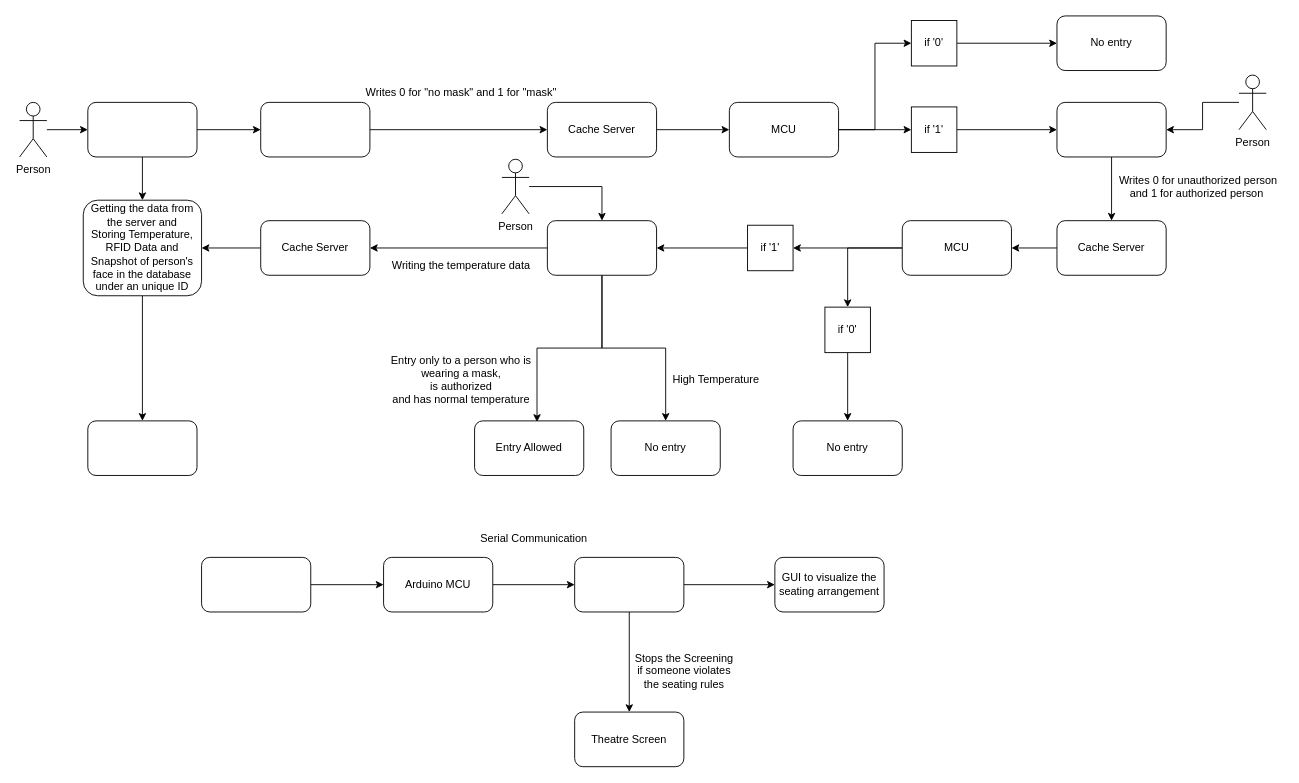
The diagram is 1299 pixels wide and 783 high, and some of its shapes have lost their labels. The shapes that lost their labels are listed below. From the top down, each one's centre as x and y in pixels, then its label:
At (142,129): "IP CAMERA".
At (315,129): "Mask Detection Algorithm".
At (1111,129): "RFID Scanning Initiate".
At (601,247): "Temp Screening Initiate".
At (142,447): "Dashboard".
At (256,584): "Sensor Array on the seats".
At (629,584): "Python Program monitoring the seats".
